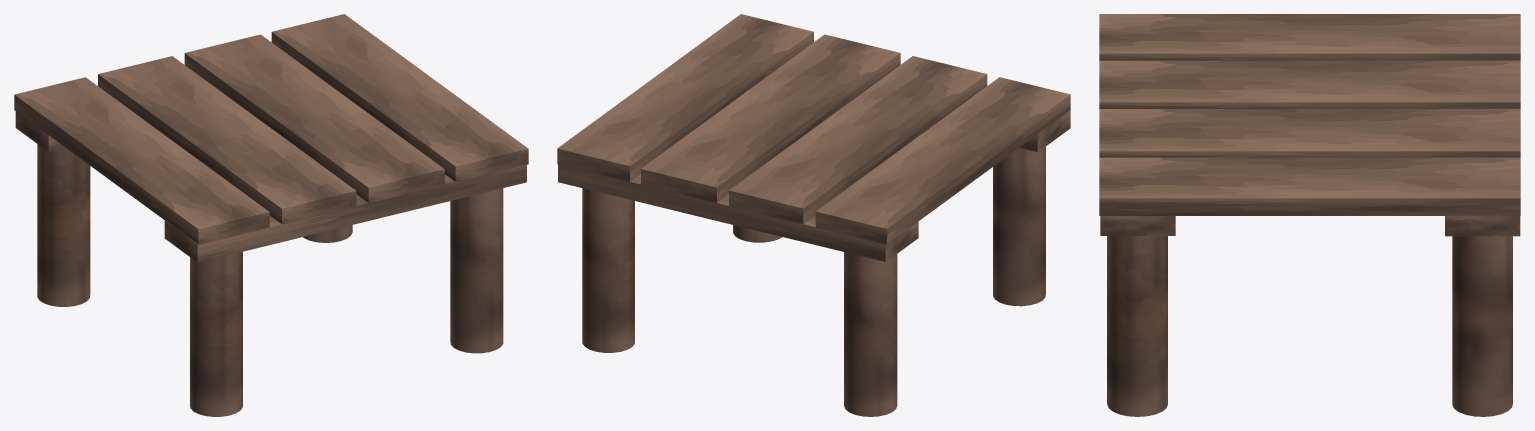
The model's file is pier.fbx.
3 renders of one model, left to right at view 1: azimuth 30°, elevation 25°; view 2: azimuth 150°, elevation 25°; view 3: azimuth 270°, elevation 25°, orthographic. The views are drawn at different scales.
Parts seen in each view (by area): view 1: polySurface4, polySurface1, polySurface2, polySurface3, pCylinder2, pCylinder1, pCylinder4, polySurface5, polySurface6, pCylinder3; view 2: polySurface4, polySurface1, polySurface2, polySurface3, pCylinder4, pCylinder3, pCylinder1, polySurface6, polySurface5, pCylinder2; view 3: polySurface3, polySurface1, polySurface4, polySurface2, pCylinder2, pCylinder3, polySurface6, polySurface5.
Part boxes in pixels (<box>): polySurface4: <box>184,34,444,203</box>; polySurface1: <box>98,56,356,224</box>; polySurface2: <box>14,77,269,244</box>; polySurface3: <box>271,14,528,181</box>; pCylinder2: <box>450,188,503,353</box>; pCylinder1: <box>190,251,242,416</box>; pCylinder4: <box>37,144,90,306</box>; polySurface5: <box>164,165,526,262</box>; polySurface6: <box>15,111,65,151</box>; pCylinder3: <box>303,225,352,242</box>; polySurface4: <box>641,34,900,202</box>; polySurface1: <box>729,56,987,223</box>; polySurface2: <box>815,77,1070,244</box>; polySurface3: <box>557,14,813,181</box>; pCylinder4: <box>844,252,897,416</box>; pCylinder3: <box>582,188,634,352</box>; pCylinder1: <box>993,146,1045,306</box>; polySurface6: <box>558,164,918,261</box>; polySurface5: <box>1019,110,1070,152</box>; pCylinder2: <box>733,225,781,242</box>; polySurface3: <box>1099,157,1520,215</box>; polySurface1: <box>1099,60,1520,108</box>; polySurface4: <box>1099,109,1520,157</box>; polySurface2: <box>1099,14,1520,60</box>; pCylinder2: <box>1107,236,1167,416</box>; pCylinder3: <box>1452,236,1512,416</box>; polySurface6: <box>1445,216,1520,236</box>; polySurface5: <box>1100,216,1175,235</box>.
Size of the model in its own units: 11.41 by 6.5 by 11.01.
